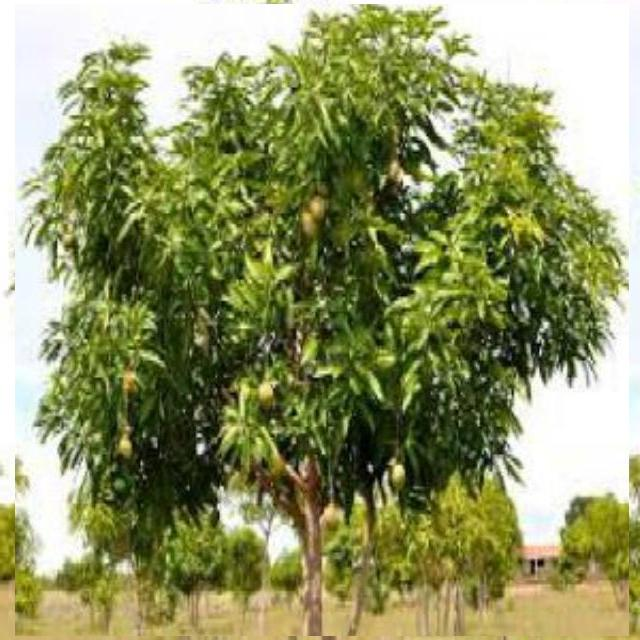tree: (15, 4, 629, 636)
